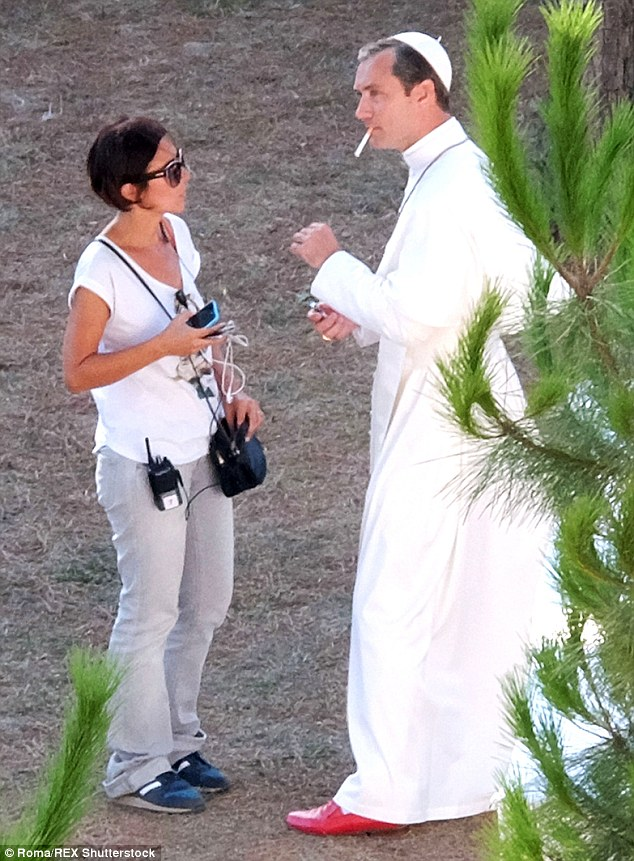cigarette: (350, 118, 378, 162)
